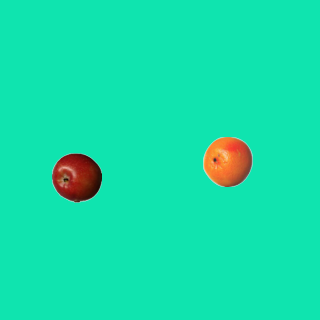Apple Braeburn: (51, 152, 101, 202)
Grapefruit Pink: (202, 136, 252, 186)
